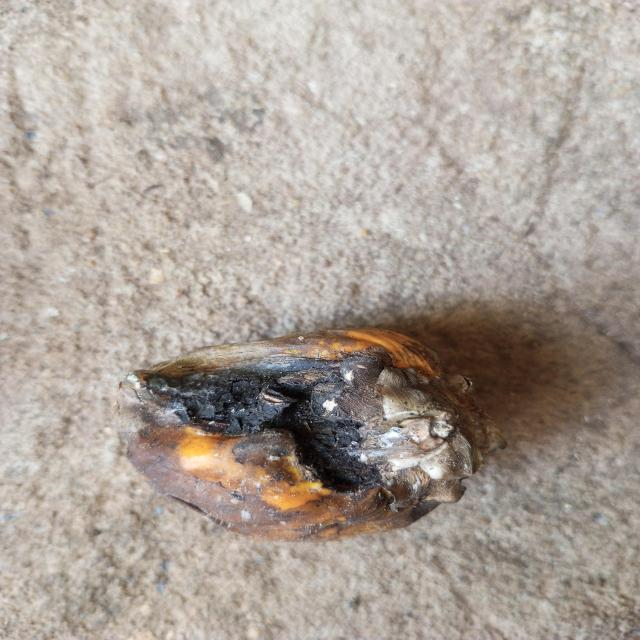damaged: (122, 326, 537, 545)
